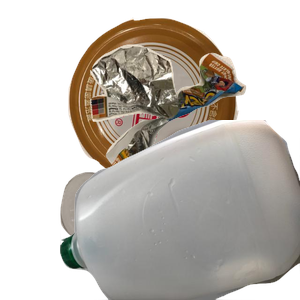glass: (58, 170, 202, 300)
metal: (66, 15, 297, 193)
plastic: (60, 120, 300, 300)
trash: (88, 42, 300, 219)
